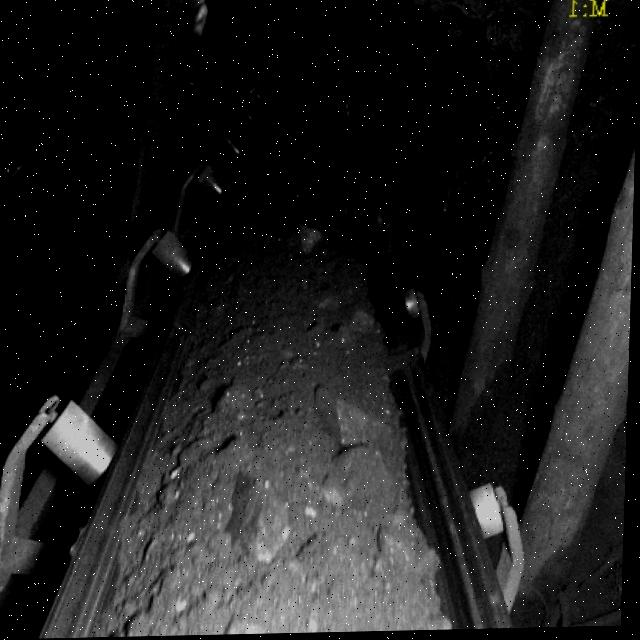large_sized_coal: (232, 470, 295, 562), (325, 450, 387, 508), (323, 388, 378, 449), (212, 381, 255, 422), (280, 221, 326, 257), (346, 310, 382, 350)
